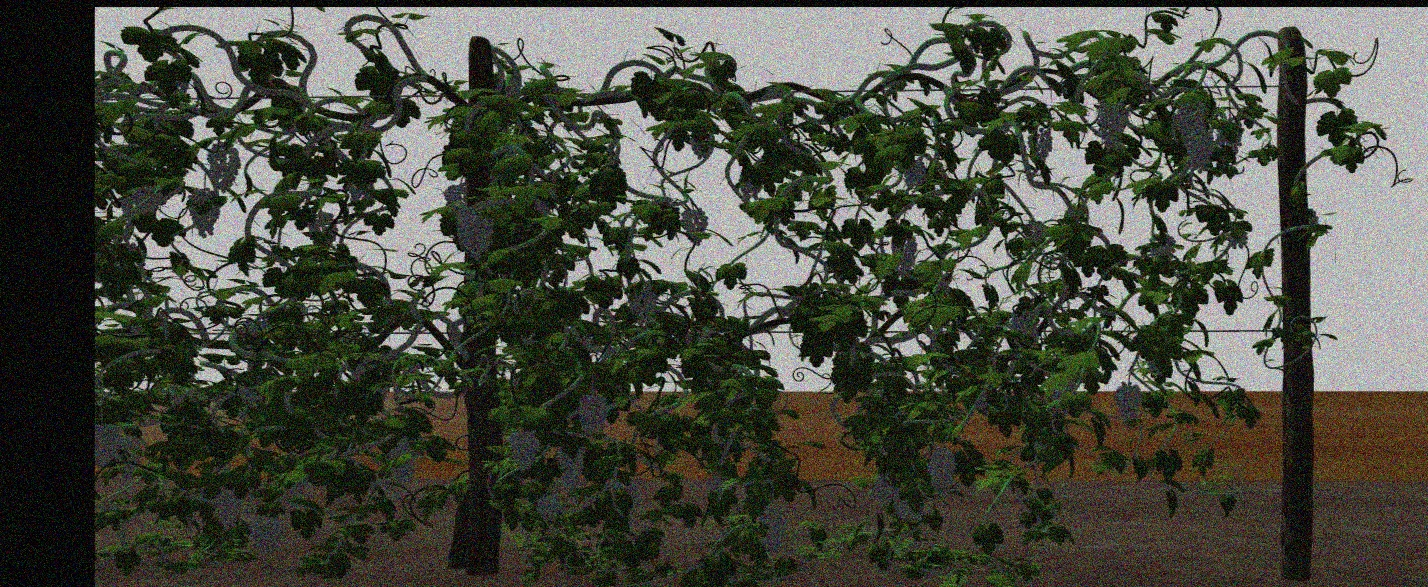grape: (456, 210, 495, 260), (206, 141, 240, 194), (187, 191, 226, 237), (926, 446, 957, 499), (757, 503, 788, 556), (1095, 97, 1126, 149), (249, 514, 284, 560), (388, 439, 419, 485), (212, 490, 245, 533), (508, 429, 539, 473), (556, 447, 584, 495), (120, 185, 162, 216), (628, 281, 657, 325), (1185, 129, 1214, 172), (578, 394, 609, 434), (1174, 97, 1206, 135), (1113, 383, 1141, 425), (95, 424, 119, 467), (680, 206, 708, 242), (118, 438, 142, 480), (892, 492, 923, 524), (1027, 130, 1052, 164), (1010, 309, 1038, 338), (872, 472, 894, 502), (904, 162, 926, 190), (535, 496, 560, 516)
